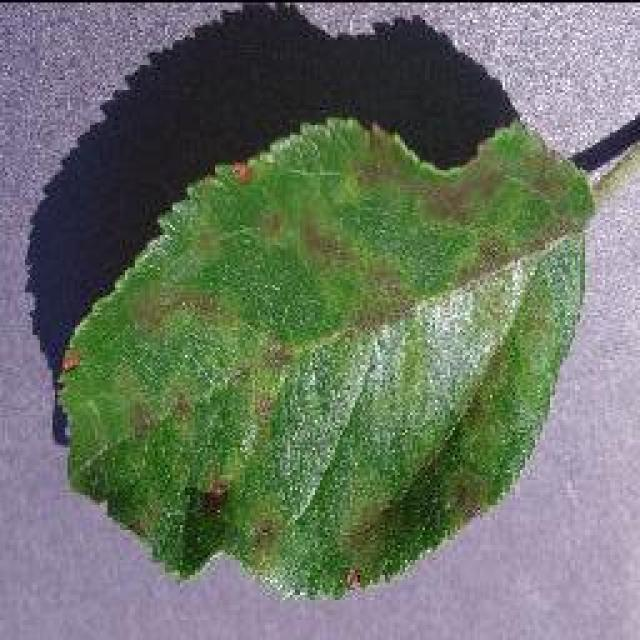apple scab disease: (53, 110, 595, 600)
